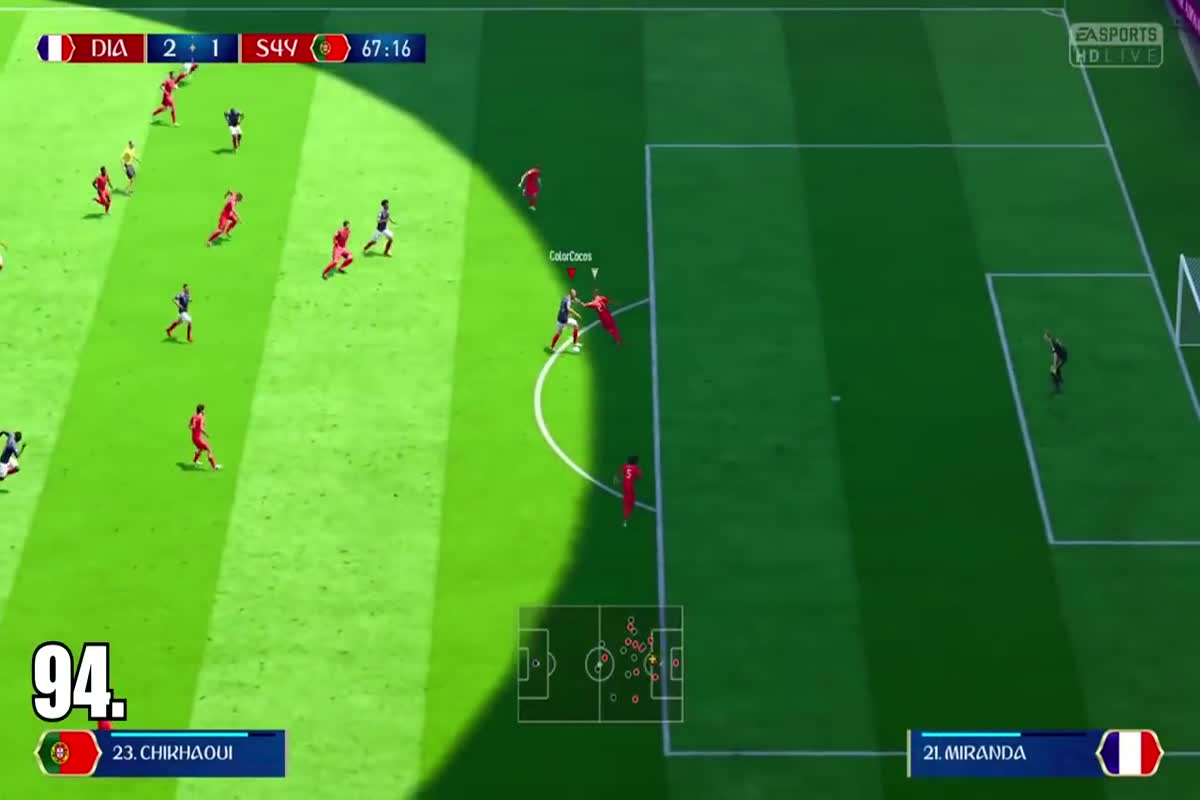ball: (569, 343, 587, 357)
